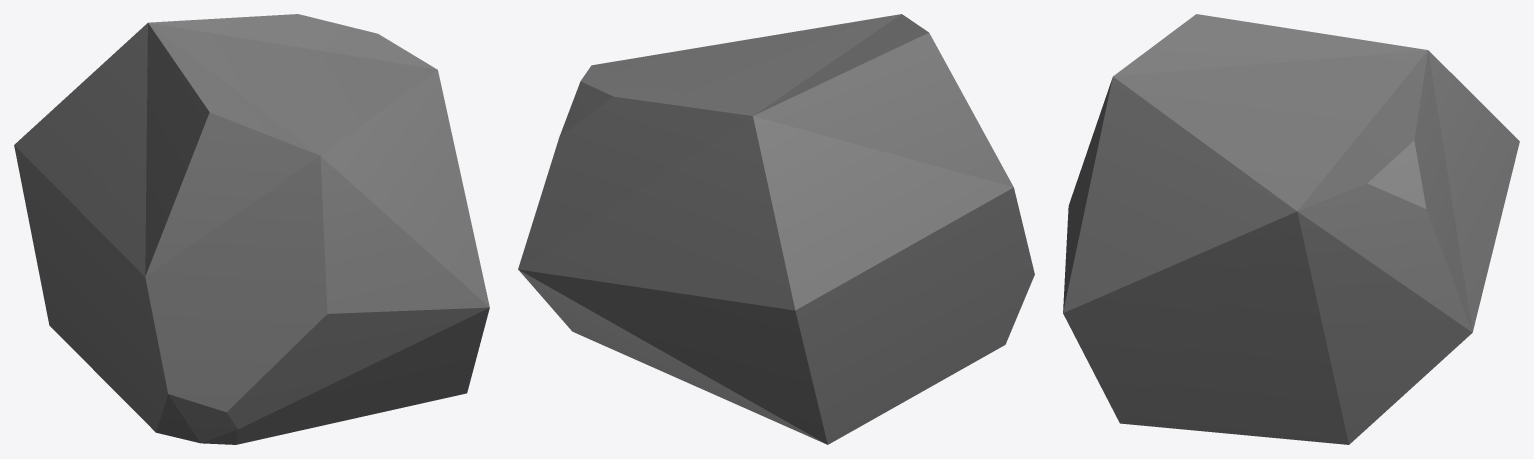
The model's file is stone small 12.fbx.
The picture shows the model from 3 angles, left to right: view 1: azimuth 30°, elevation 25°; view 2: azimuth 150°, elevation 25°; view 3: azimuth 270°, elevation 25°; orthographic projection. The views are drawn at different scales.
Visible parts, largest first — view 1: stone small 12; view 2: stone small 12; view 3: stone small 12.
Boxes of the visible parts, x1,y1,x2,y2 form: stone small 12: (14, 14, 489, 444); stone small 12: (518, 14, 1034, 444); stone small 12: (1063, 14, 1519, 444).
Bounding box in the file's own units: 38.52 × 36.18 × 43.6.
